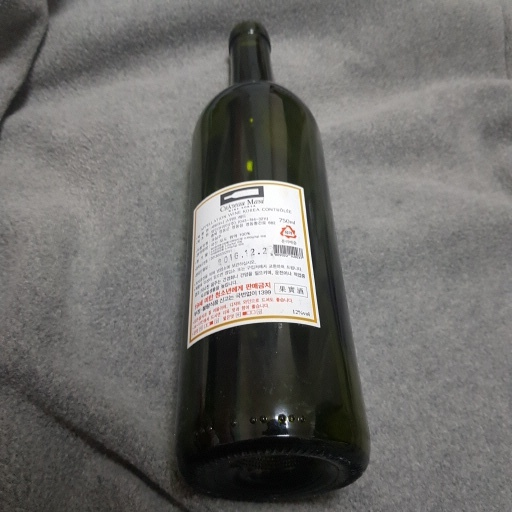Glass_2: (173, 18, 372, 498)
